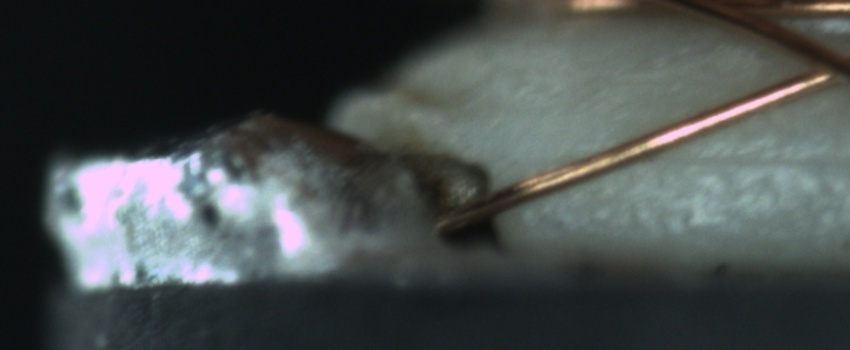CL: (790, 36, 849, 91)
DL: (627, 128, 850, 188)
